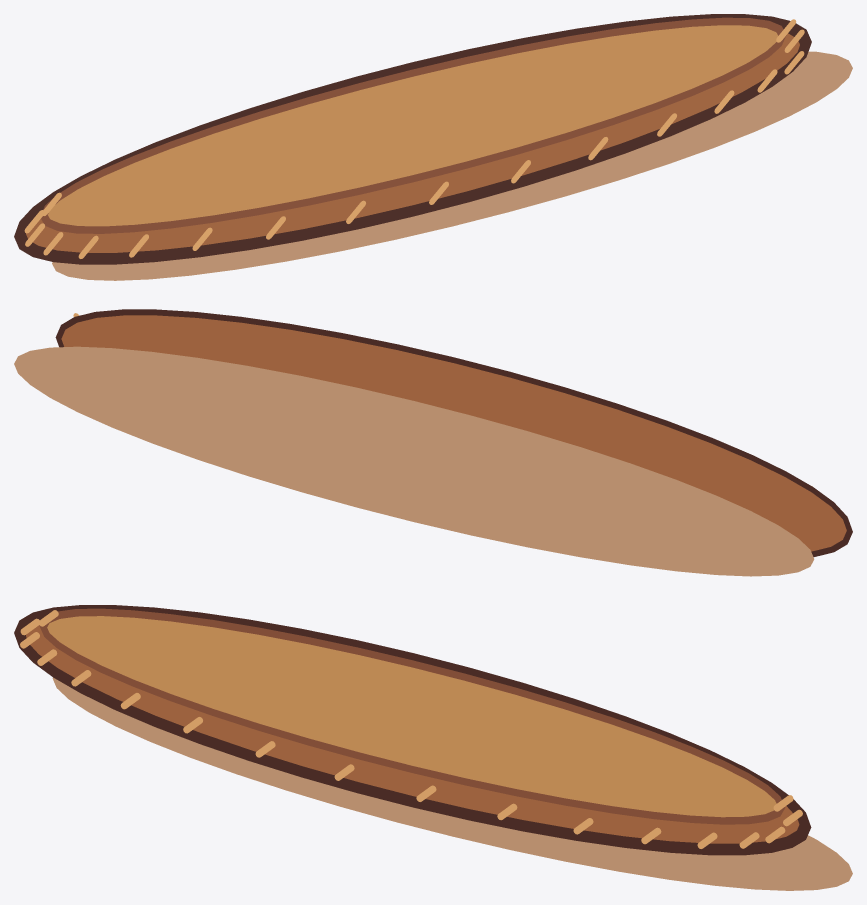
File: taler.glb
3 views of the same model, one above another, from view 1: azimuth 30°, elevation 25°; view 2: azimuth 150°, elevation 25°; view 3: azimuth 330°, elevation 25° (orthographic).
Visible parts, largest first — view 1: Woven loaf platter.001; view 2: Woven loaf platter.001; view 3: Woven loaf platter.001.
Part boxes in pixels (x1=…): Woven loaf platter.001: x1=14, y1=14, x2=852, y2=280; Woven loaf platter.001: x1=14, y1=309, x2=852, y2=576; Woven loaf platter.001: x1=14, y1=605, x2=852, y2=890.
Bounding box in the file's own units: 2.56 × 0.5092 × 0.0505.
